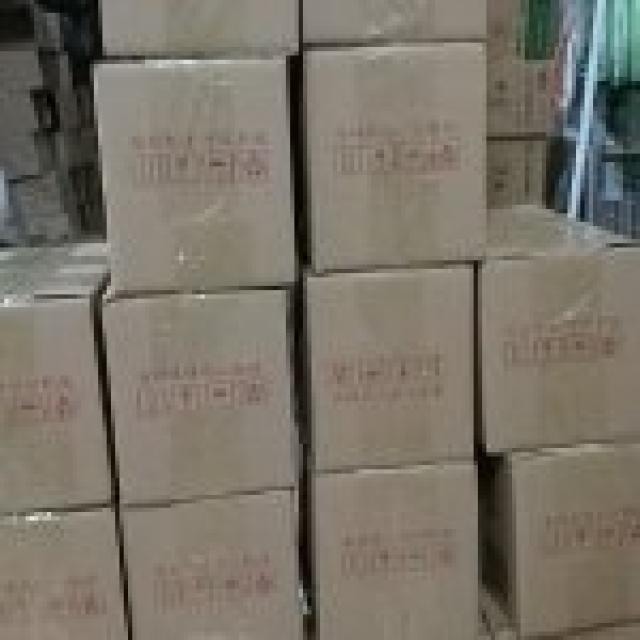box: (94, 55, 299, 294), (102, 286, 307, 503), (299, 43, 486, 273), (474, 201, 640, 452), (299, 265, 474, 474), (478, 444, 640, 640), (0, 243, 115, 516), (307, 461, 482, 640), (119, 486, 311, 640), (0, 503, 128, 640), (102, 0, 299, 55), (303, 0, 486, 43), (486, 60, 555, 132), (17, 166, 85, 239), (486, 137, 550, 209), (486, 0, 559, 55), (0, 90, 47, 137), (0, 137, 55, 175), (0, 43, 43, 90)
